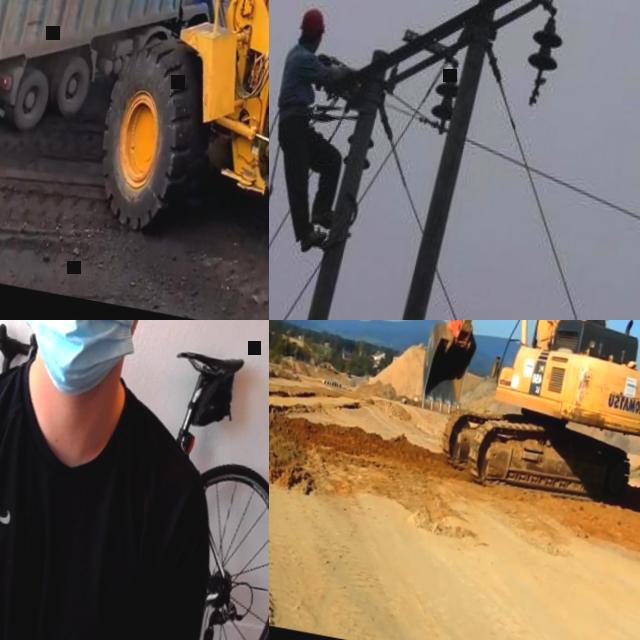helmet: (298, 7, 330, 37)
machinery: (0, 0, 269, 320), (405, 320, 640, 512), (0, 0, 239, 170)
mask: (14, 320, 171, 411)
no_vest: (0, 353, 217, 640), (278, 46, 322, 114)
person: (0, 320, 269, 640), (269, 4, 374, 256)
